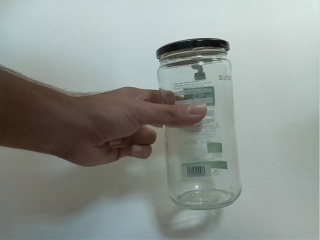pote cristal: (154, 34, 248, 213)
